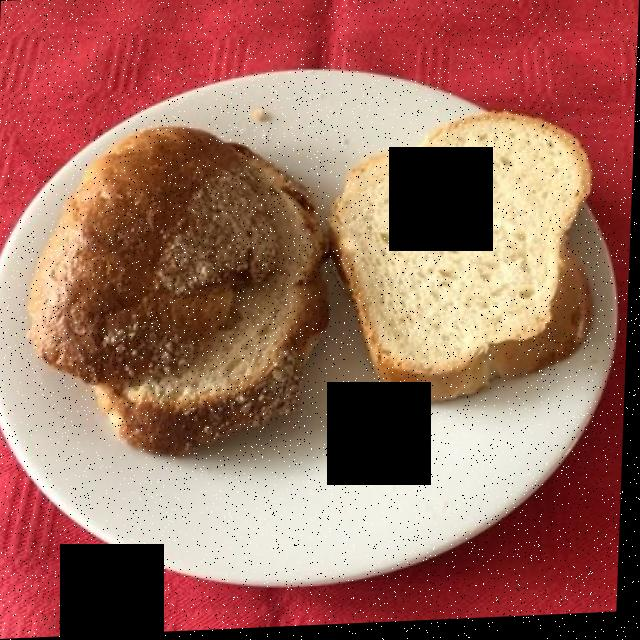bread-white: (336, 117, 588, 397)
bread-whole-wheat: (36, 133, 322, 449)
